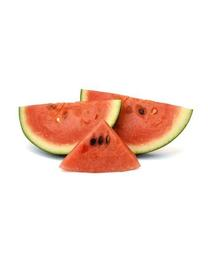watermelon: (18, 87, 193, 174)
